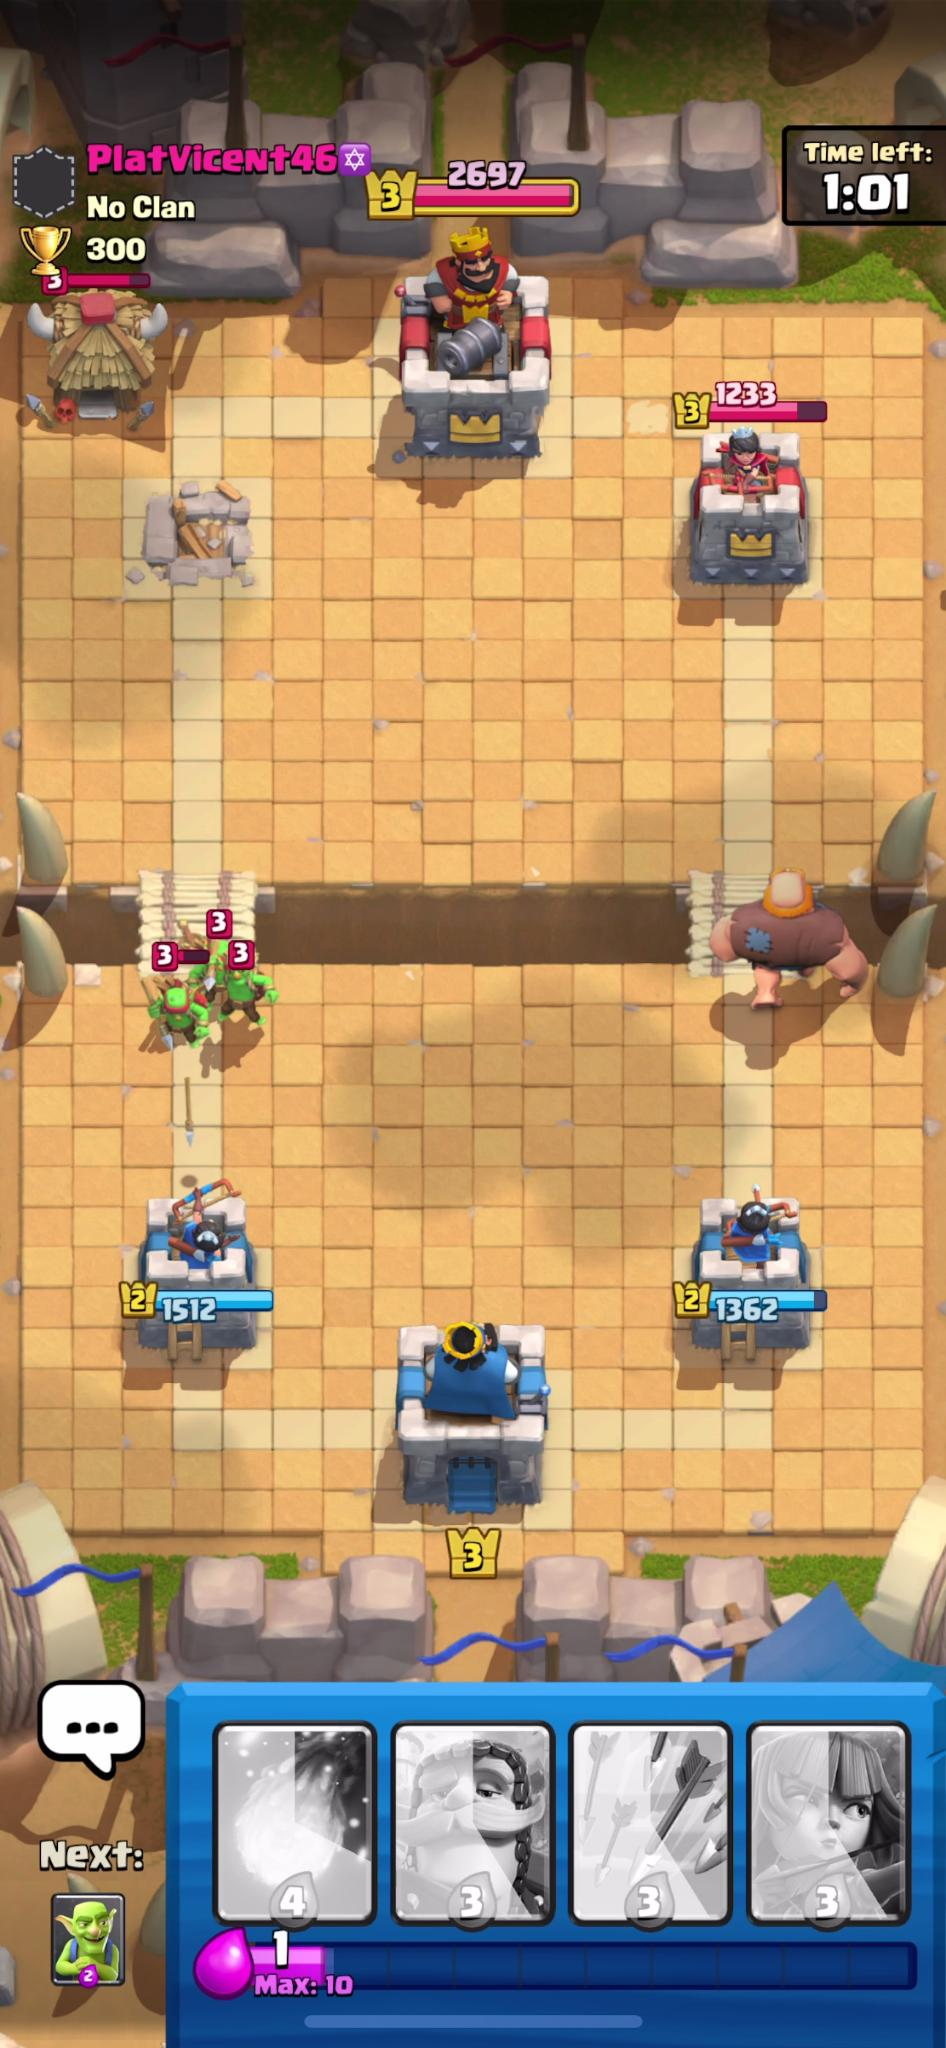geant: (691, 865, 894, 1024)
gobelin_lances: (106, 912, 311, 1075)
